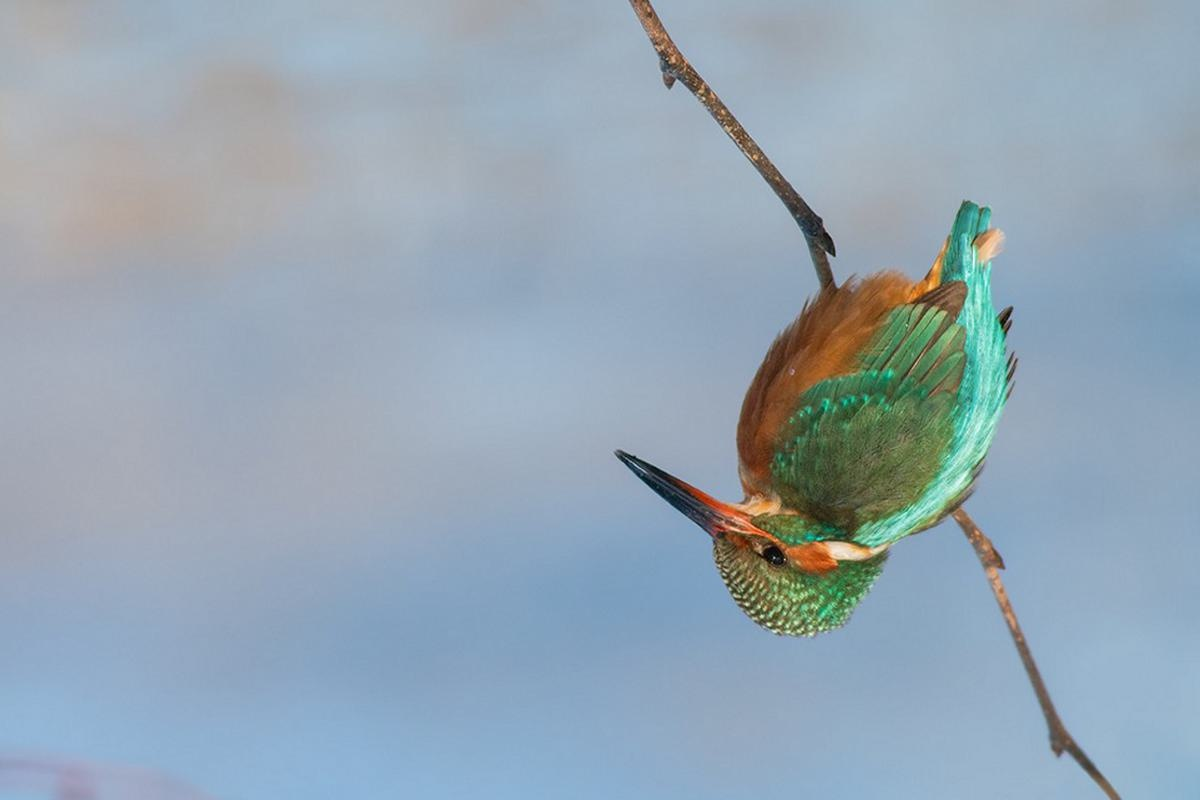kingfisher: (619, 210, 1051, 622)
